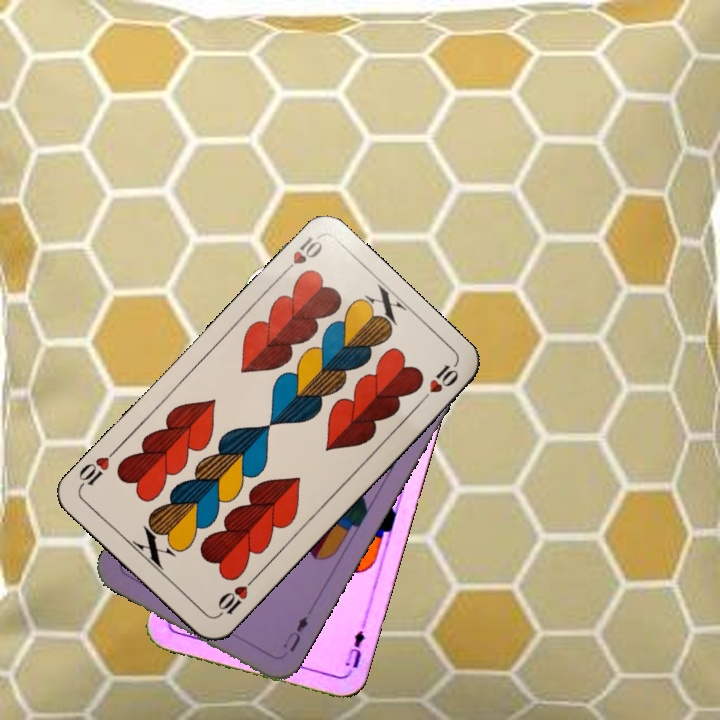EU: (340, 619, 369, 677), (278, 611, 311, 655)
H10: (276, 231, 325, 279), (213, 573, 258, 620)
